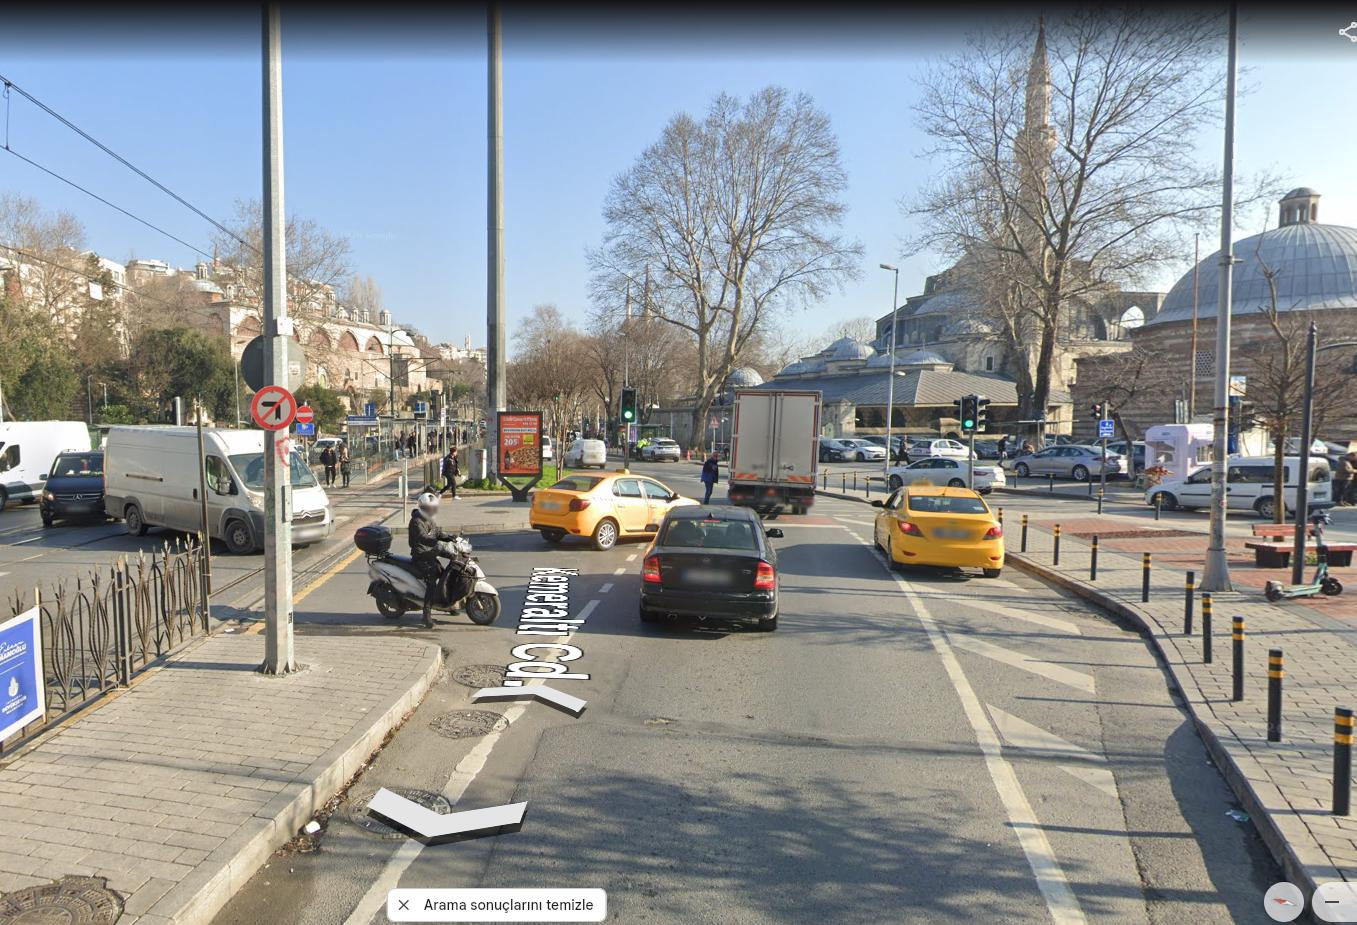greenlight: (961, 397, 979, 432), (622, 391, 636, 422)
leftturnsareforbidden: (253, 385, 292, 429)
